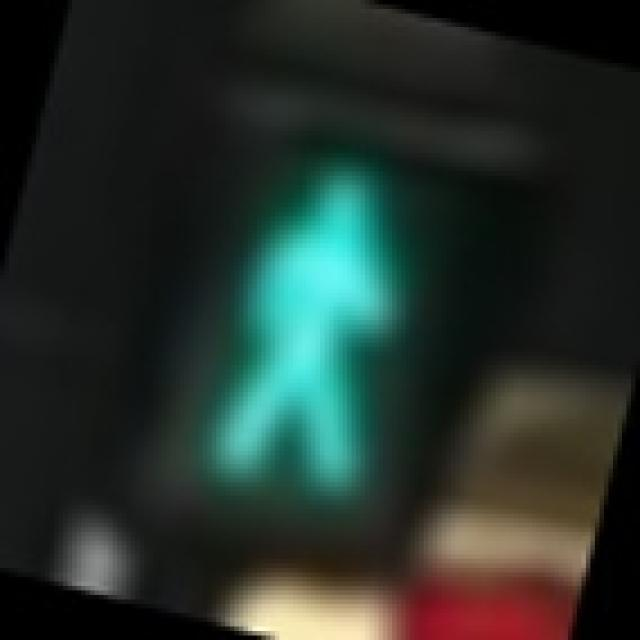green_light: (122, 68, 510, 554)
